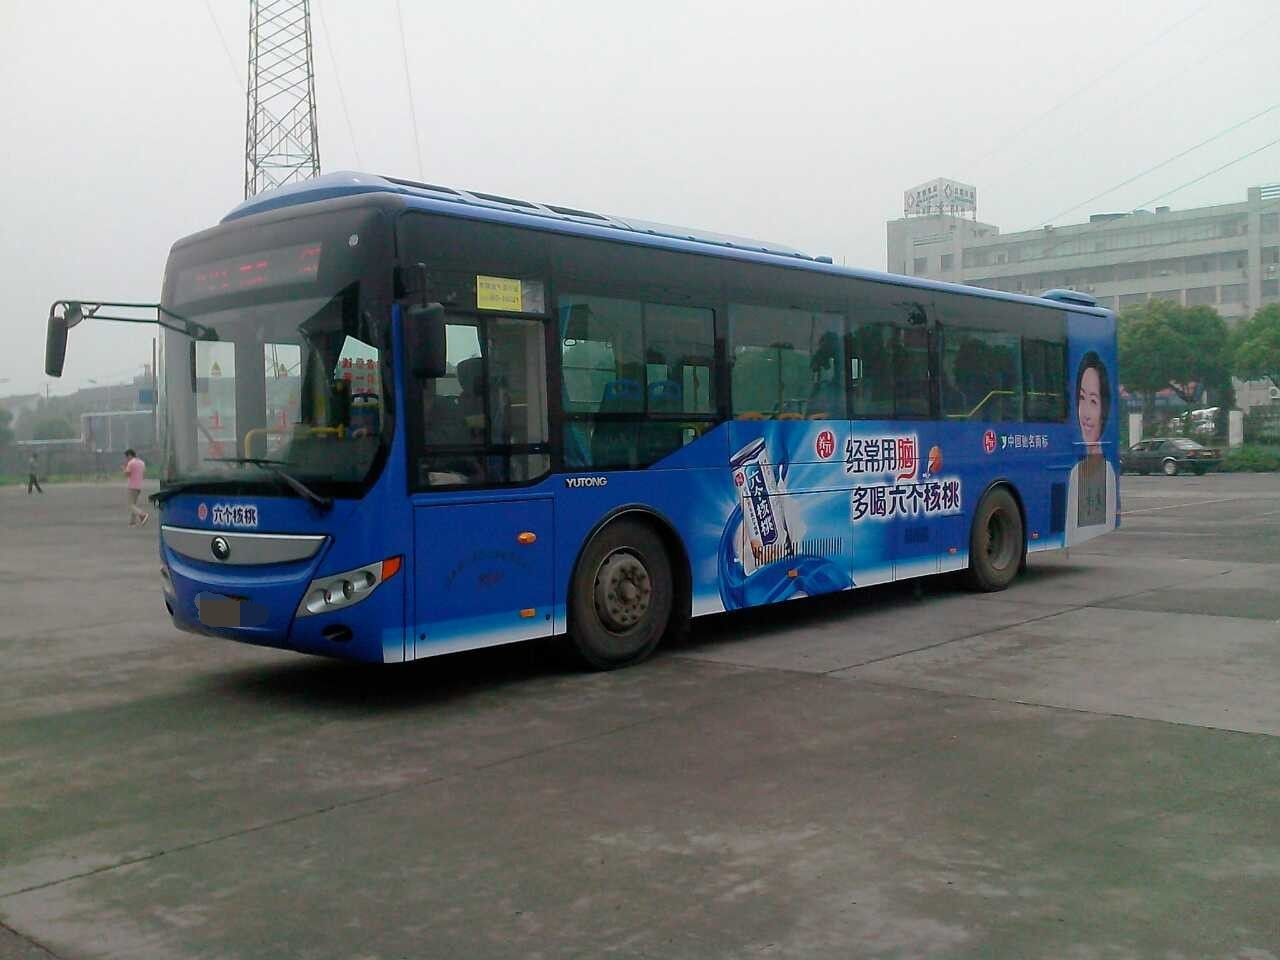bus: (104, 179, 1119, 671)
